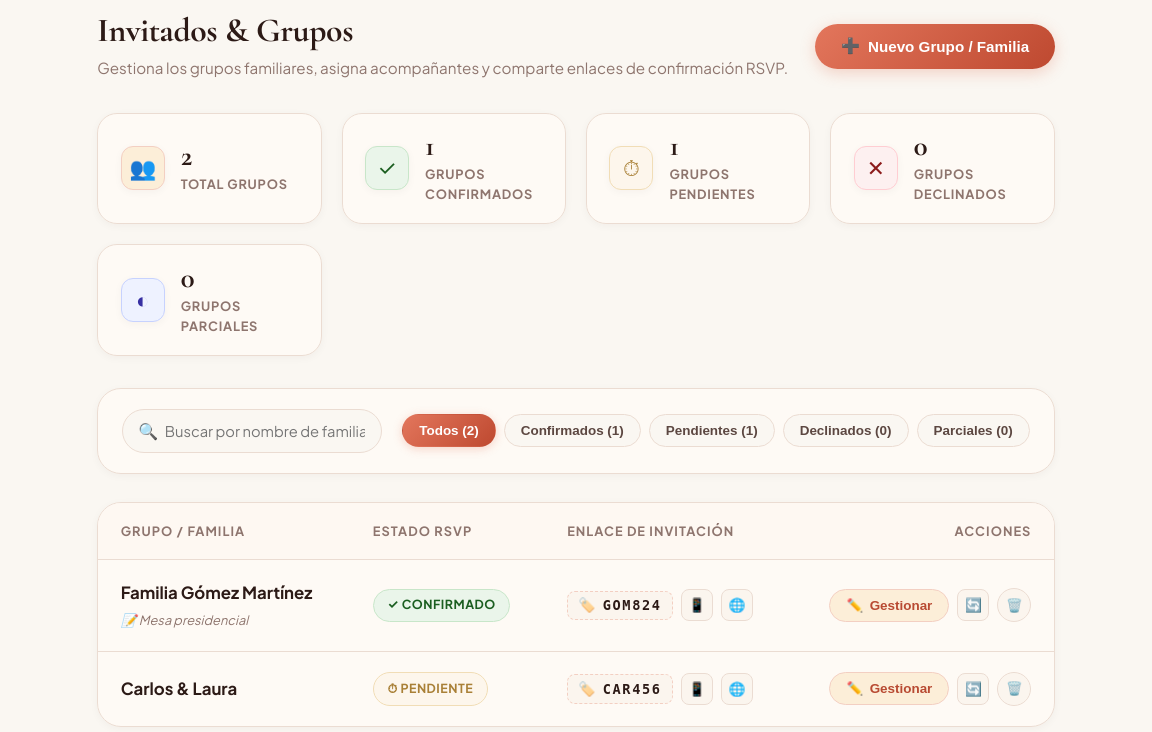
Test: Feature: Panel de Invitaciones y Gestión de QR (AdminPartiesPage) › filtra los grupos por término de búsqueda
The image size is (1152, 732).
Check: the text "Familia Gómez Martínez" is shown, box [121,580,328,606]
Check: the text "Carlos & Laura" is shown, box [121,678,237,698]
Type "Carlos" into the field with placeholder "Buscar por nombre de familia o notas...". click: [252, 431]
box: [122,409,382,453]
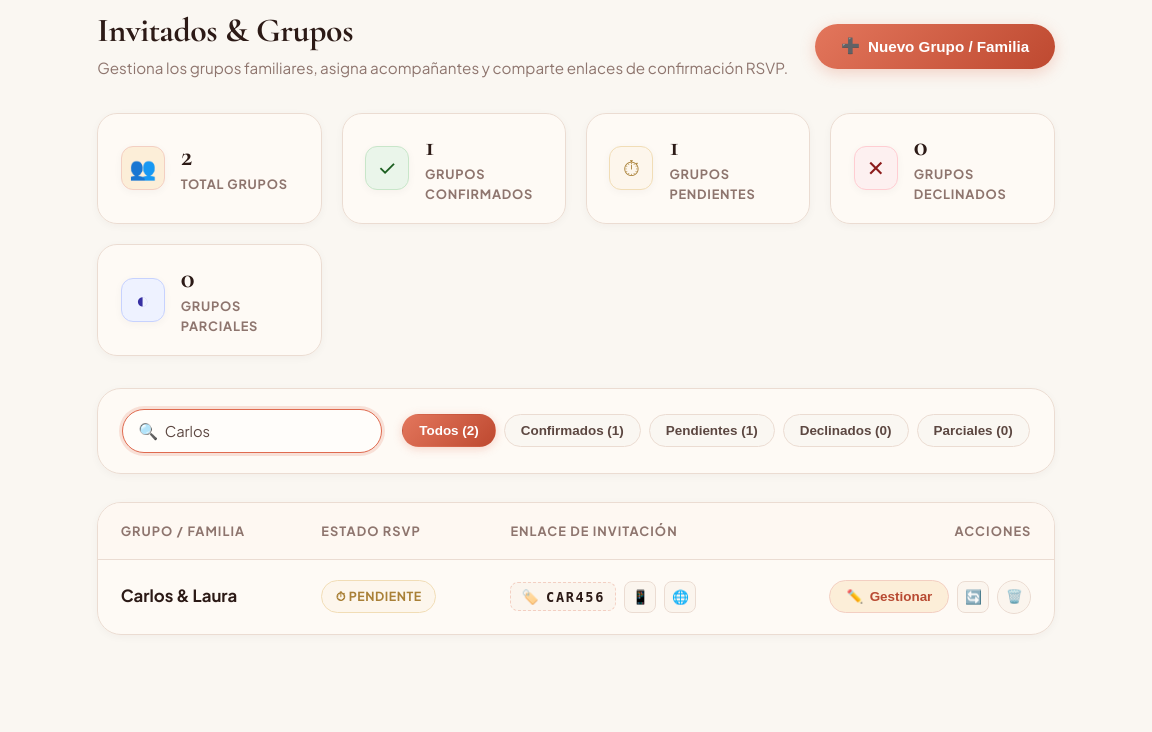
Check: the text "Carlos & Laura" is shown, box [121,585,237,606]
Check: the text "Familia Gómez Martínez" is gone
